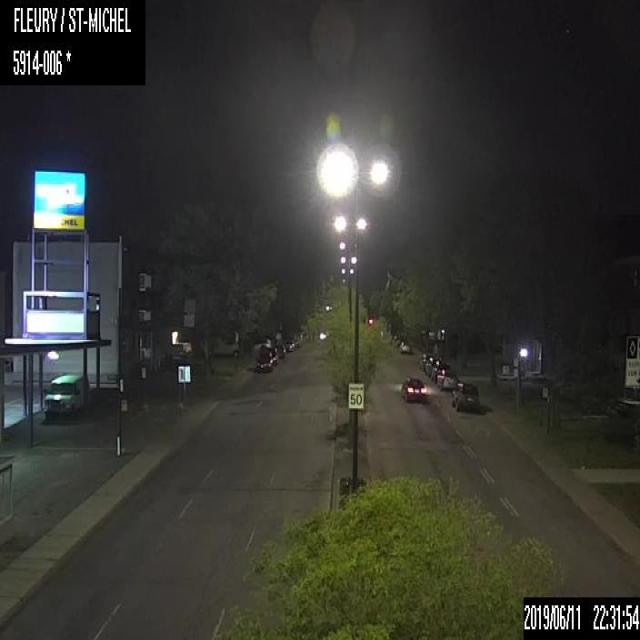vehicle: (43, 369, 90, 421), (453, 381, 480, 409), (398, 376, 428, 401), (435, 366, 461, 391), (212, 336, 240, 358), (254, 345, 274, 372), (431, 360, 450, 382), (418, 352, 434, 371), (425, 356, 440, 376), (273, 342, 285, 359), (284, 338, 296, 352), (399, 340, 411, 352)
